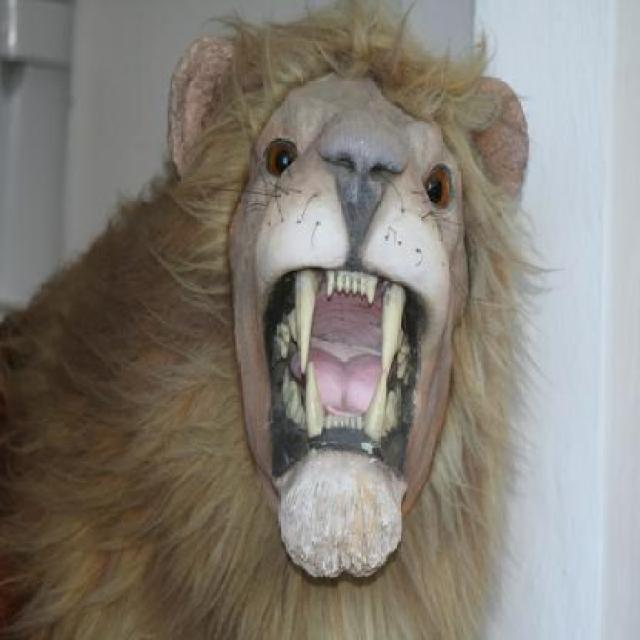Lion: (0, 14, 554, 638)
